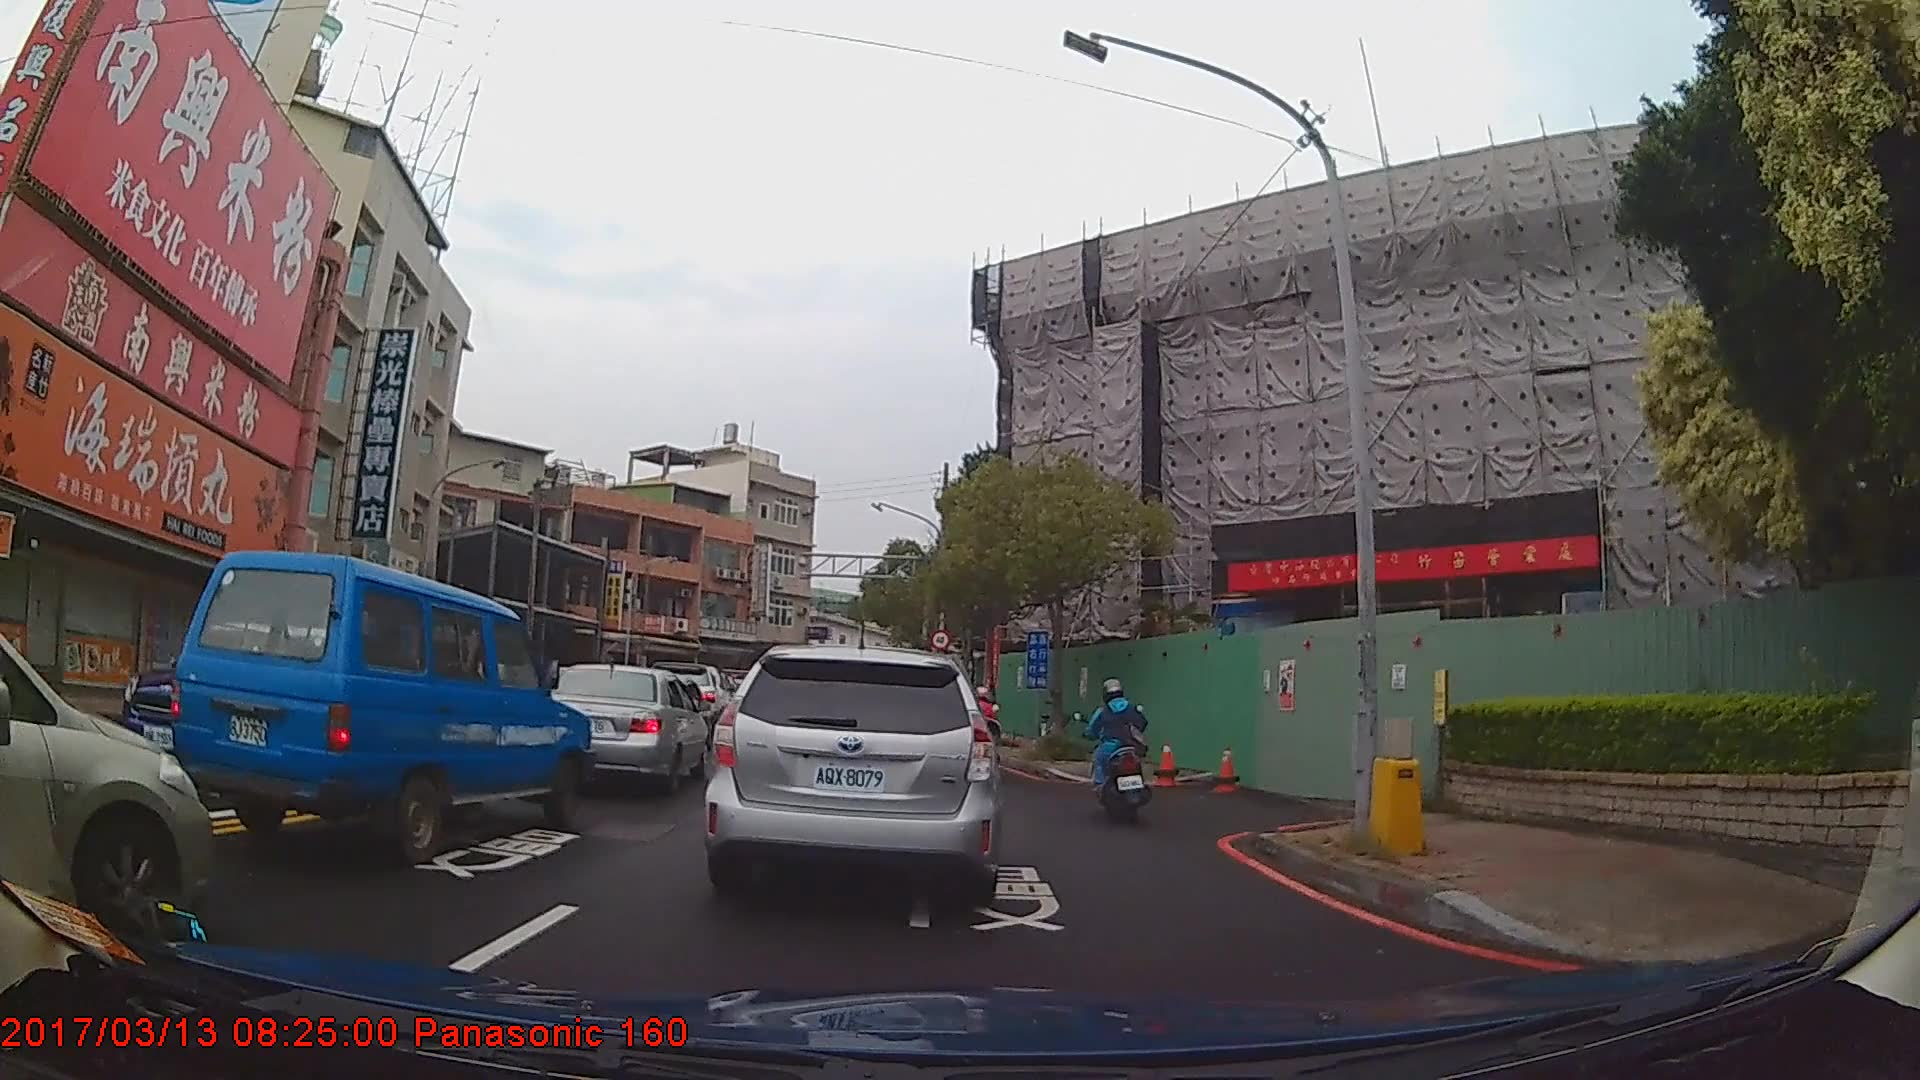rider: (1091, 681, 1150, 823), (966, 684, 1004, 772)
vehicle: (169, 547, 594, 865), (704, 643, 1008, 906), (0, 630, 214, 954), (116, 616, 389, 809), (540, 661, 708, 790)
